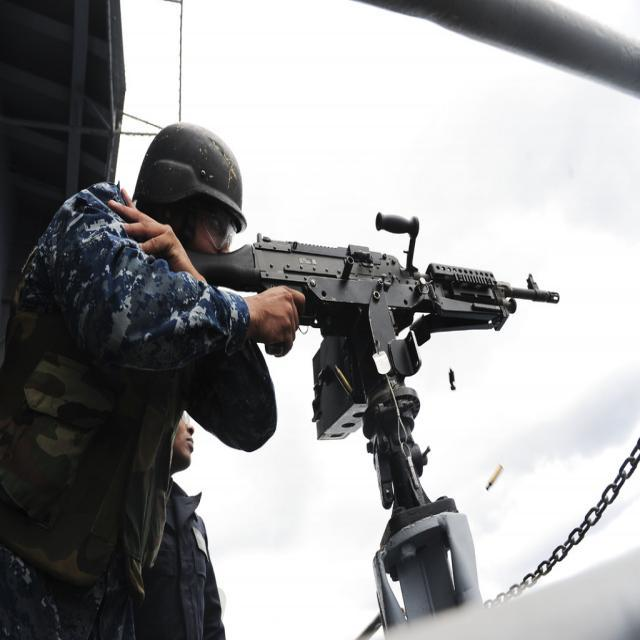weapon: (184, 212, 558, 630)
